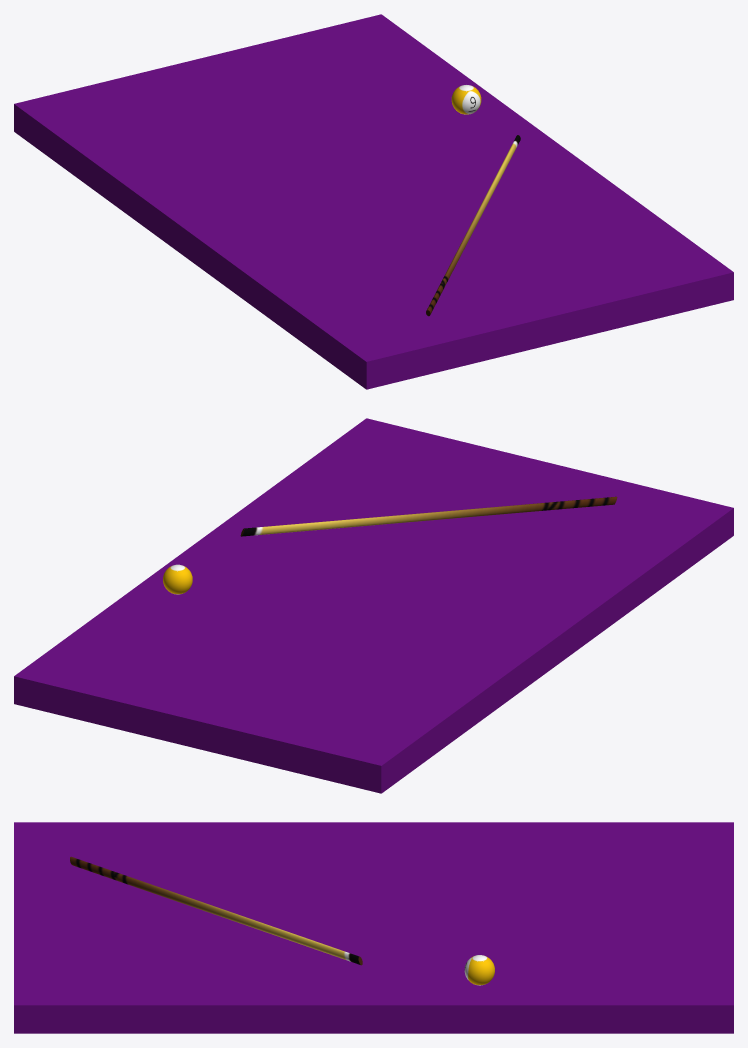
File: BillarPrueba.DAE
3 views of the same model, one above another, from view 1: azimuth 30°, elevation 25°; view 2: azimuth 150°, elevation 25°; view 3: azimuth 270°, elevation 25° (orthographic). The views are drawn at different scales.
Parts seen in each view (by area): view 1: Box_Help_SueloMesa, Box_Taco04, Sphere_16; view 2: Box_Help_SueloMesa, Box_Taco04, Sphere_16; view 3: Box_Help_SueloMesa, Box_Taco04, Sphere_16.
Part boxes in pixels (left/top/right/bottom): Box_Help_SueloMesa: left=14, top=14, right=733, bottom=389; Box_Taco04: left=426, top=135, right=520, bottom=316; Sphere_16: left=451, top=85, right=481, bottom=114; Box_Help_SueloMesa: left=14, top=418, right=733, bottom=793; Box_Taco04: left=240, top=496, right=617, bottom=536; Sphere_16: left=163, top=564, right=192, bottom=594; Box_Help_SueloMesa: left=14, top=822, right=733, bottom=1033; Box_Taco04: left=70, top=856, right=362, bottom=965; Sphere_16: left=464, top=955, right=494, bottom=985.
Size of the model in its own units: 130 by 216 by 19.16.
Materials: 3 (2 with a texture image).
